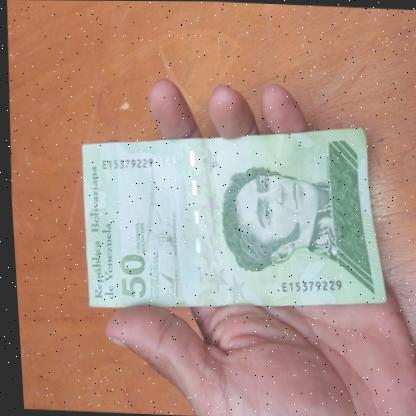vef_front: (72, 114, 389, 319)
